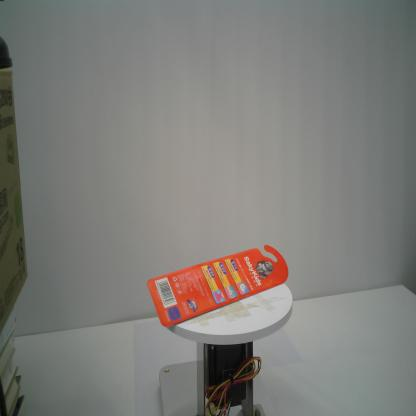Personal Hygiene: (146, 243, 288, 328)
